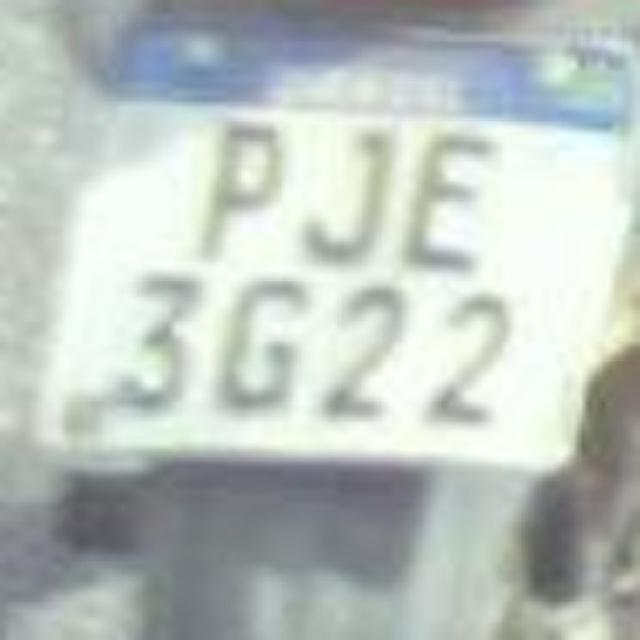2: (395, 268, 540, 440), (292, 269, 432, 436)
3: (56, 248, 232, 452)
E: (385, 105, 520, 280)
G: (180, 252, 332, 440)
J: (276, 105, 416, 280)
P: (168, 104, 300, 271)
